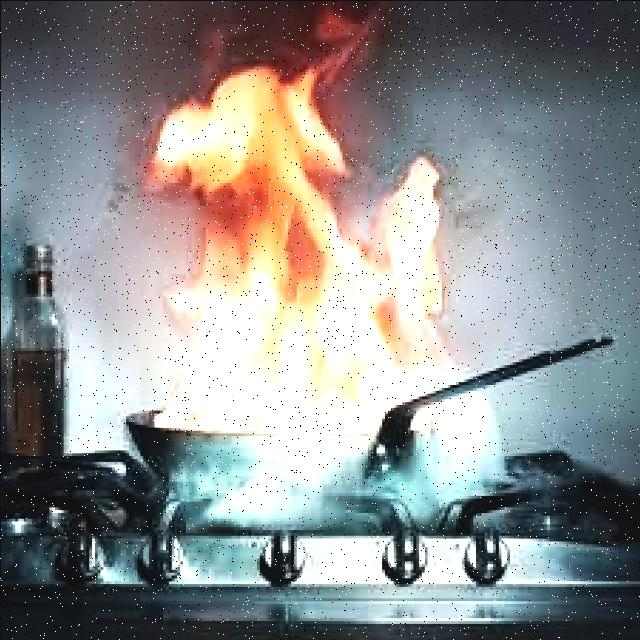api: (115, 64, 453, 442)
